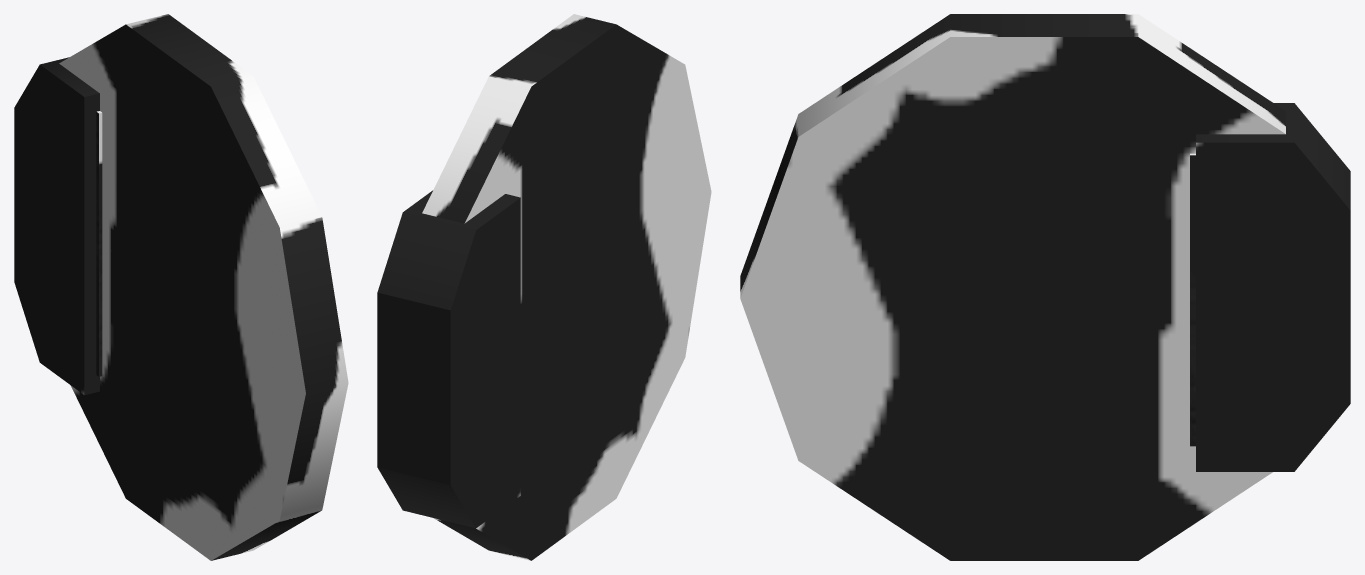
The model's file is F_Brakes.FBX.
3 views of the same model, side by side, from view 1: azimuth 30°, elevation 25°; view 2: azimuth 150°, elevation 25°; view 3: azimuth 270°, elevation 25° (orthographic). The views are drawn at different scales.
Parts seen in each view (by area): view 1: BrakeDisk_02, BrakeShoe_02, BrakeShoe_01; view 2: BrakeDisk_02, BrakeShoe_02; view 3: BrakeDisk_02, BrakeShoe_02, BrakeShoe_01.
Part boxes in pixels (left/top/right/bottom): BrakeDisk_02: left=59, top=14, right=348, bottom=560; BrakeShoe_02: left=14, top=57, right=99, bottom=395; BrakeShoe_01: left=96, top=111, right=102, bottom=376; BrakeDisk_02: left=422, top=14, right=711, bottom=560; BrakeShoe_02: left=377, top=190, right=520, bottom=528; BrakeDisk_02: left=740, top=14, right=1285, bottom=560; BrakeShoe_02: left=1196, top=103, right=1350, bottom=471; BrakeShoe_01: left=1190, top=153, right=1195, bottom=446.
Bounding box in the file's own units: 164 × 1016 × 1072.
